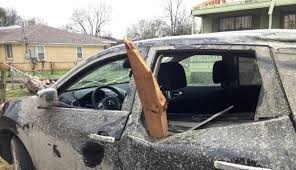Broken-glass: (129, 49, 267, 136), (44, 52, 136, 111)
Dent: (80, 134, 117, 167)
